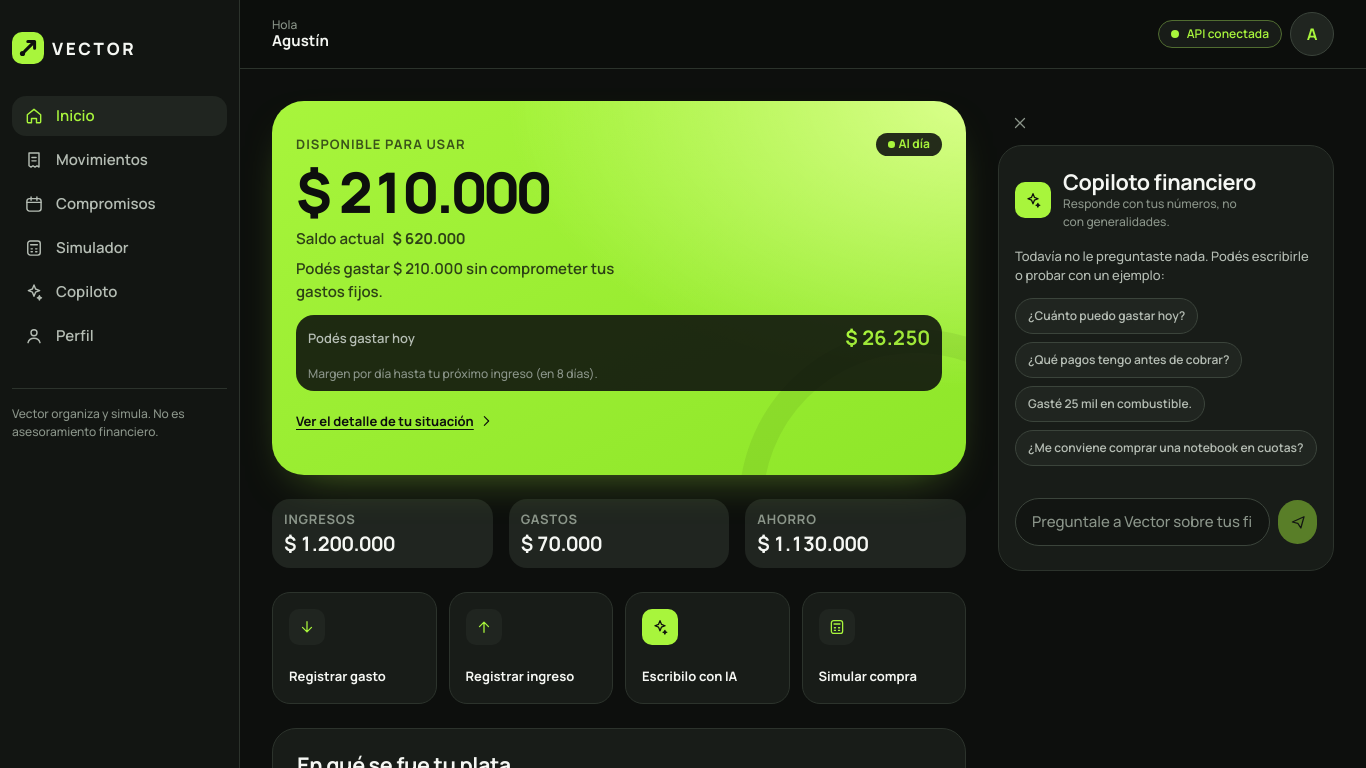
Scenario: Dashboard financiero › crea una simulación y muestra el resultado con el detalle mensual
This screenshot has width=1366, height=768.
Click the button "Simular compra": (884, 648) [802, 592, 966, 704]
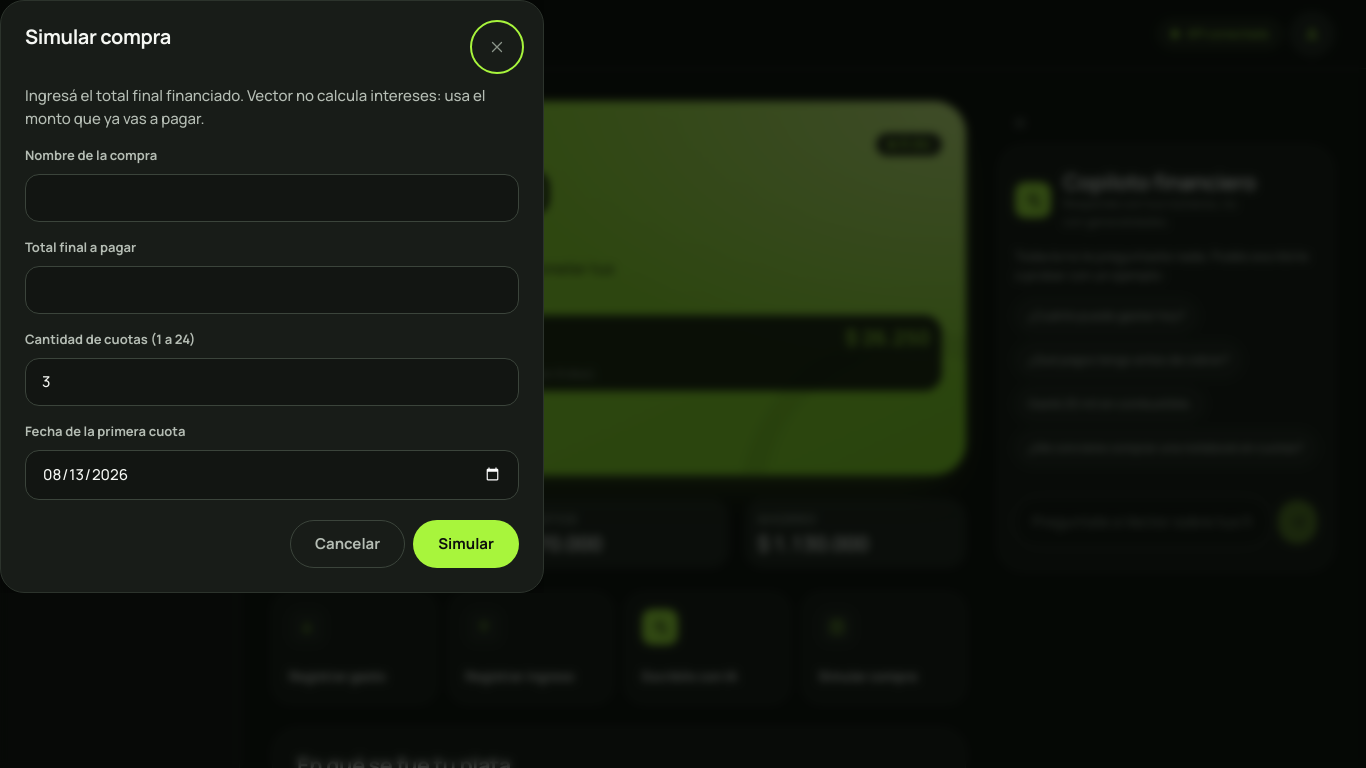
In the field labelled "Nombre de la compra": (272, 198) [25, 174, 519, 222], type "Notebook prueba"
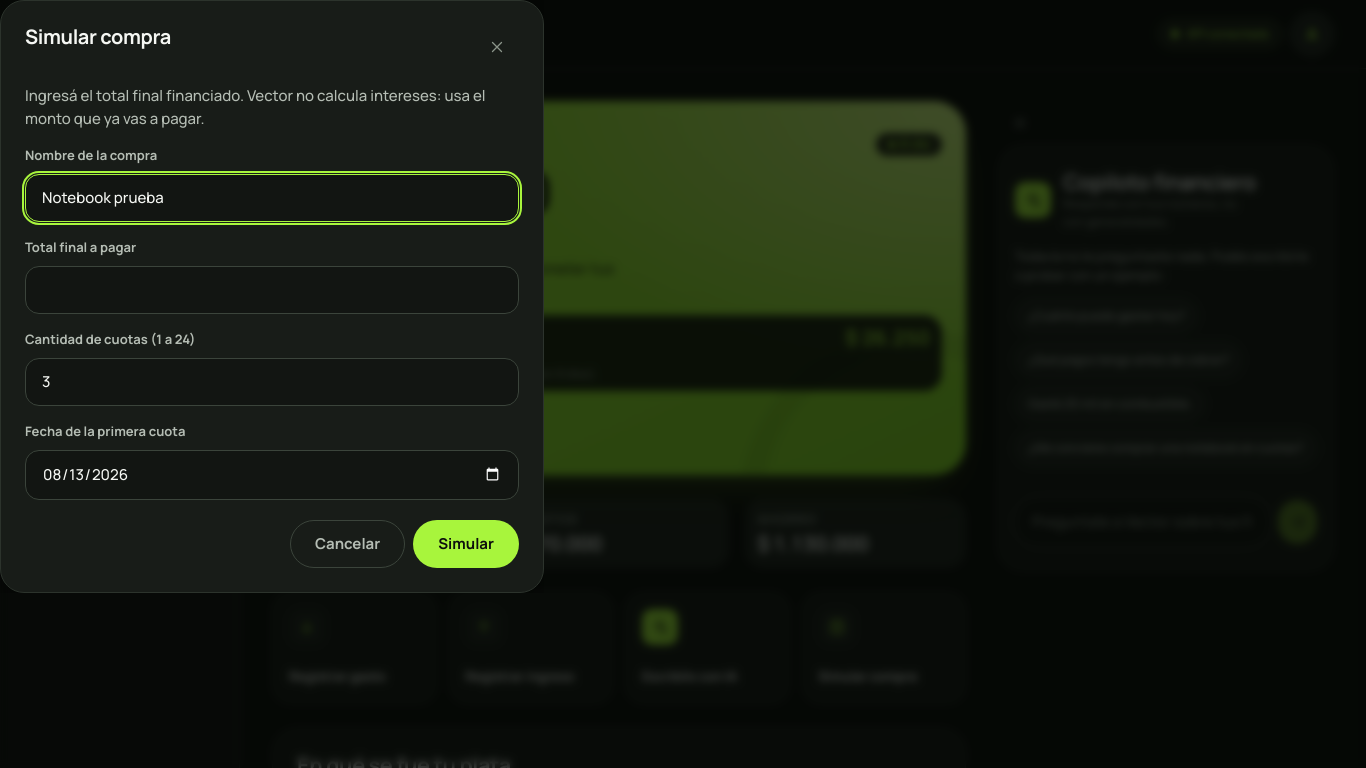
In the number field labelled "Total final a pagar": (272, 290) [25, 266, 519, 314], type "900000"
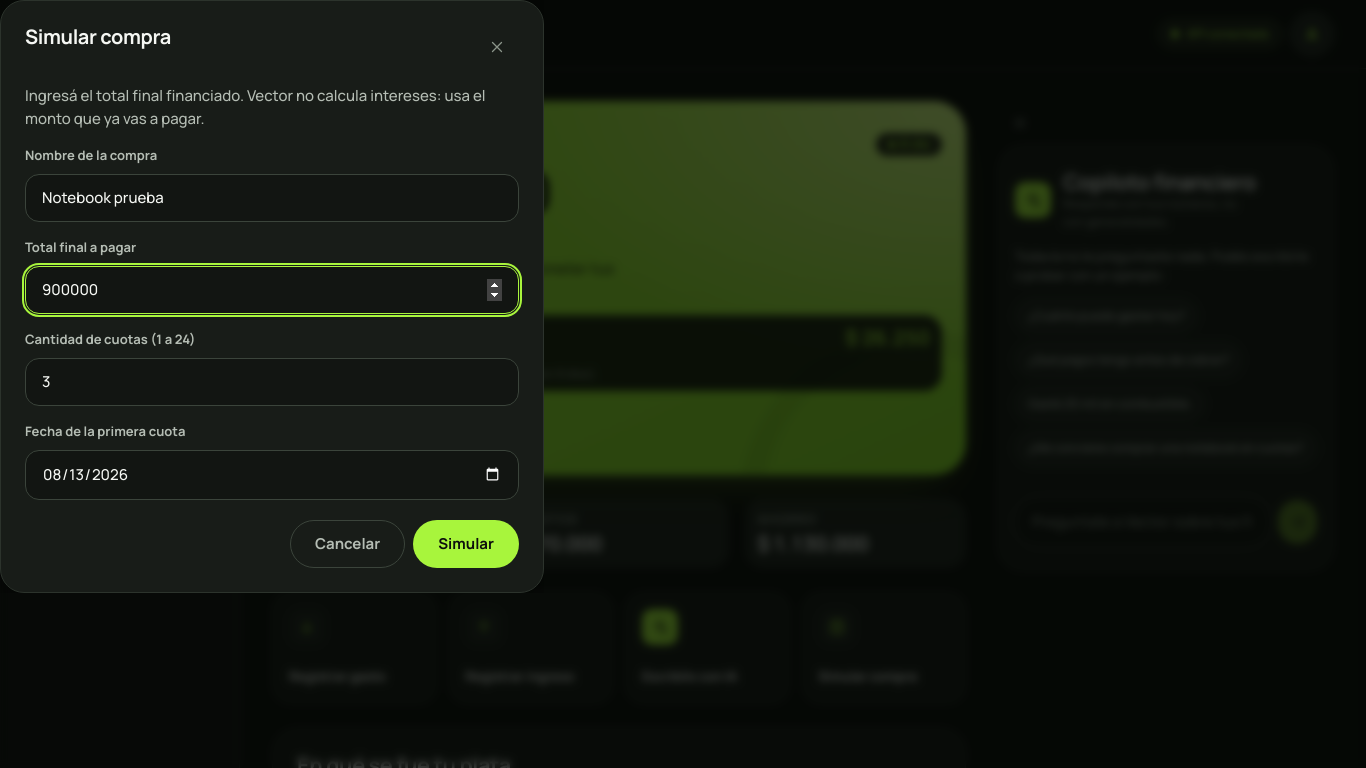
Replace the text in the number field labelled "Cantidad de cuotas (1 a 24)" with "9": (272, 382) [25, 358, 519, 406]
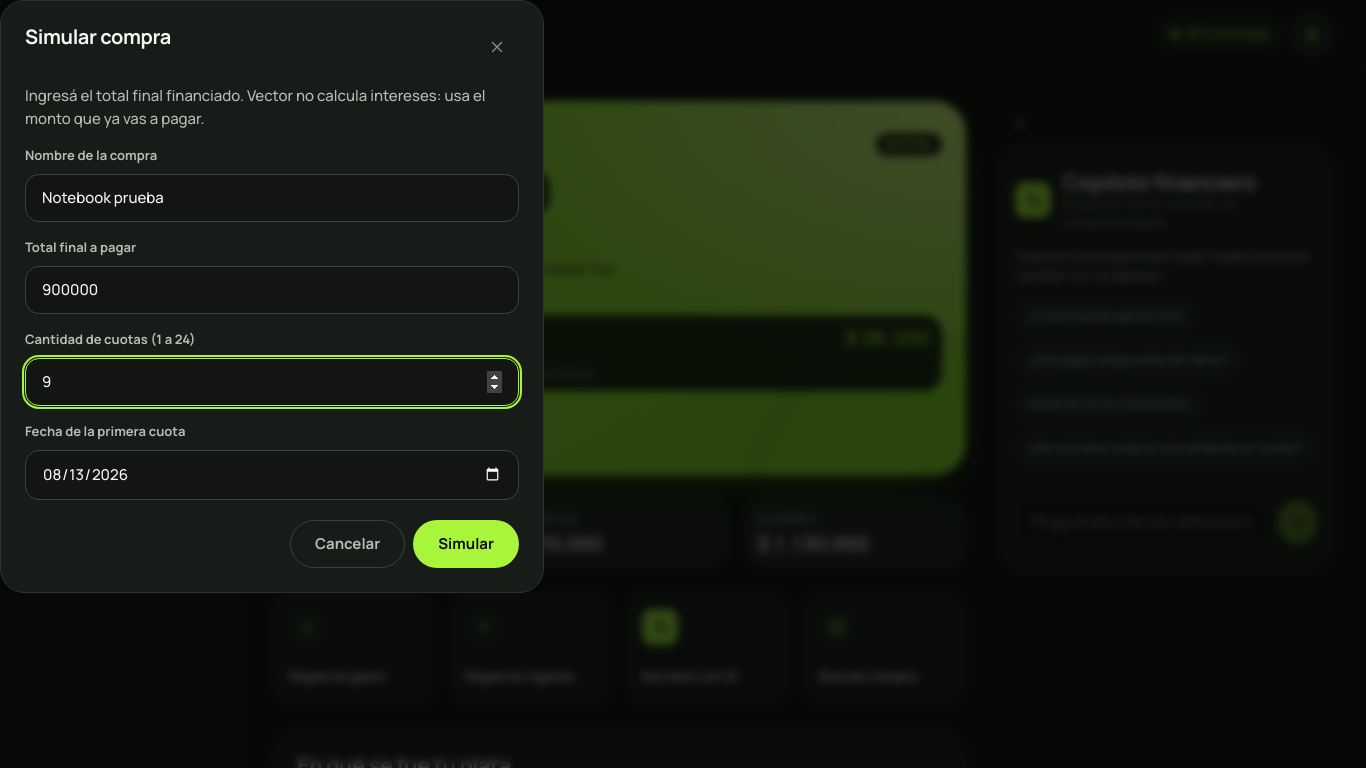
Click the button "Simular": (466, 544) [413, 520, 519, 568]
(page scrolled)
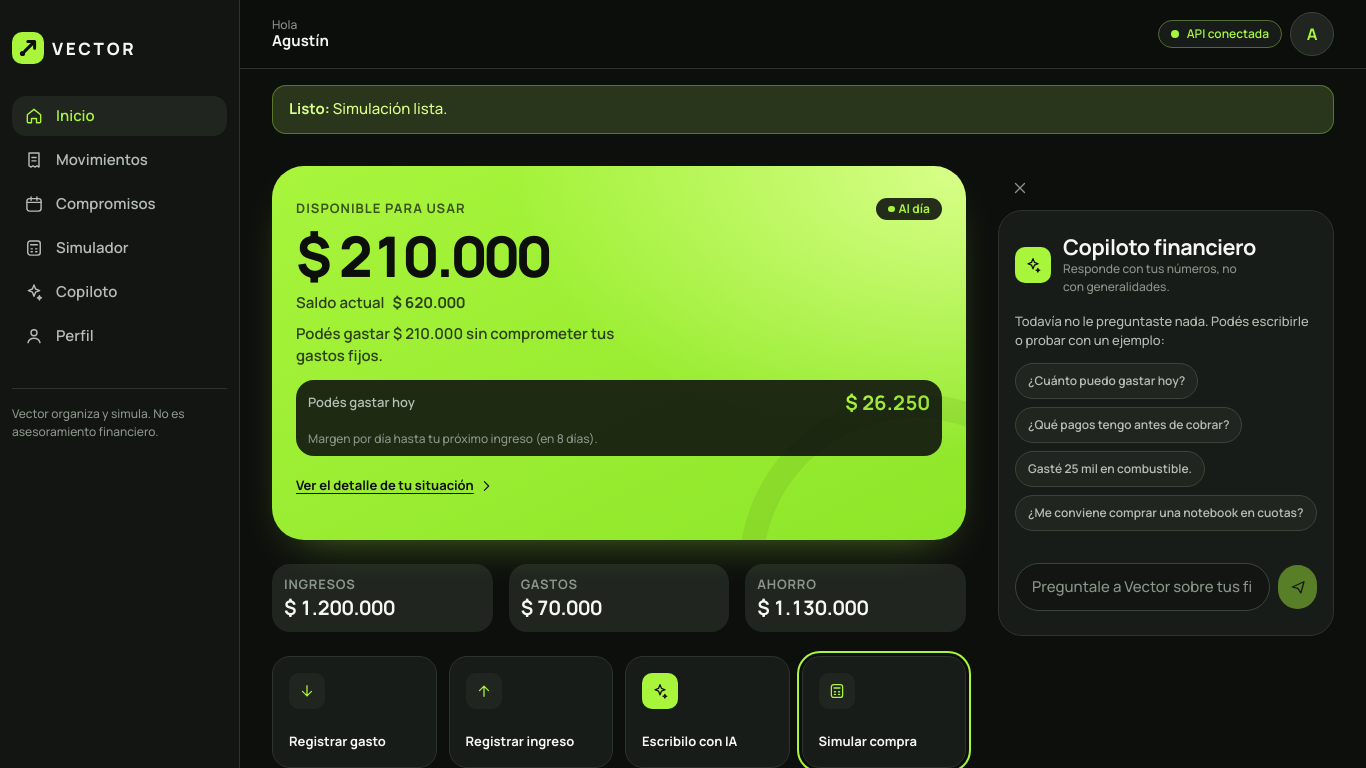
Now the text "Listo: Simulación lista." is shown, box [272, 85, 1334, 134]
